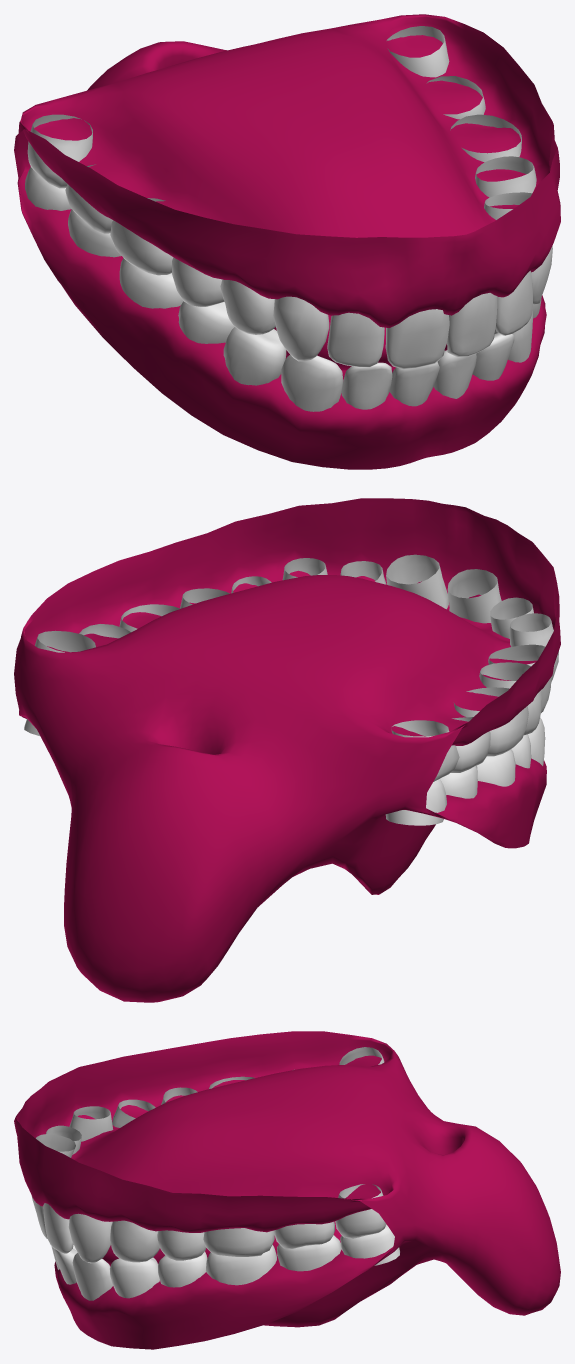
Rendered from toot.glb.
3 views of the same model, one above another, from view 1: azimuth 30°, elevation 25°; view 2: azimuth 150°, elevation 25°; view 3: azimuth 270°, elevation 25° (orthographic). The views are drawn at different scales.
Visible parts, largest first — view 1: Gums, Teeth_TeethMaterial_0; view 2: Gums, Teeth_TeethMaterial_0; view 3: Gums, Teeth_TeethMaterial_0.
Part boxes in pixels (bbox=[...]): Gums: bbox=[14, 14, 560, 469]; Teeth_TeethMaterial_0: bbox=[25, 26, 552, 411]; Gums: bbox=[14, 498, 560, 1002]; Teeth_TeethMaterial_0: bbox=[24, 554, 558, 825]; Gums: bbox=[14, 1031, 560, 1349]; Teeth_TeethMaterial_0: bbox=[31, 1047, 399, 1300].
Bounding box in the file's own units: 8.75 × 5.25 × 12.22.
